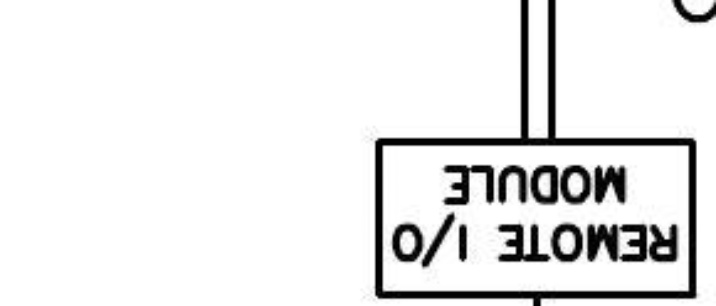remote_io_module: (374, 138, 698, 300)
